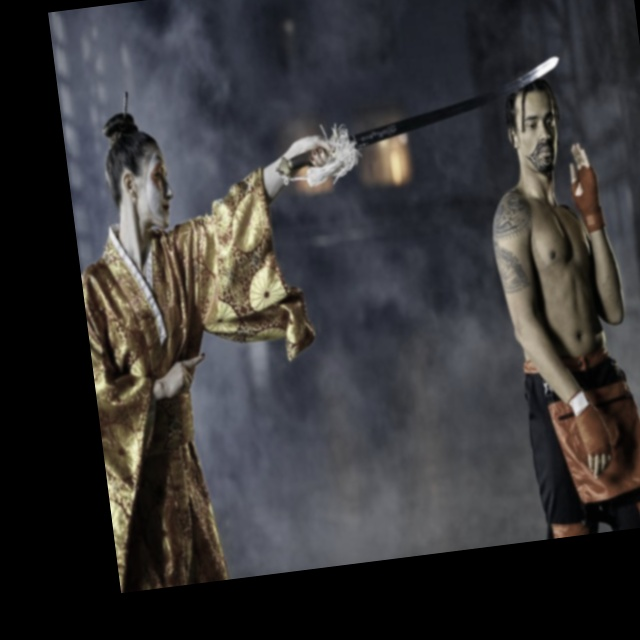Sharp-Object: (259, 41, 575, 187)
